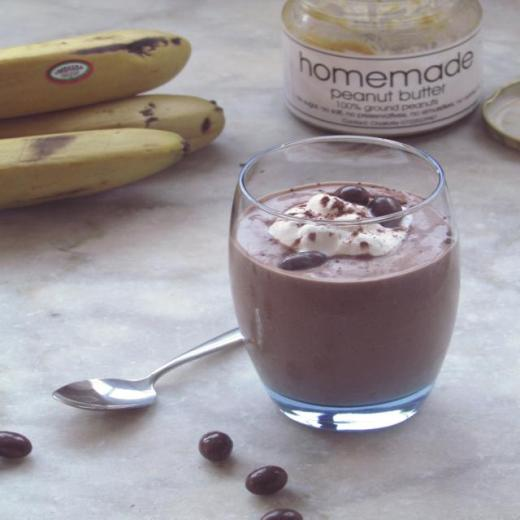Banana: (0, 128, 188, 207), (0, 95, 226, 155)
